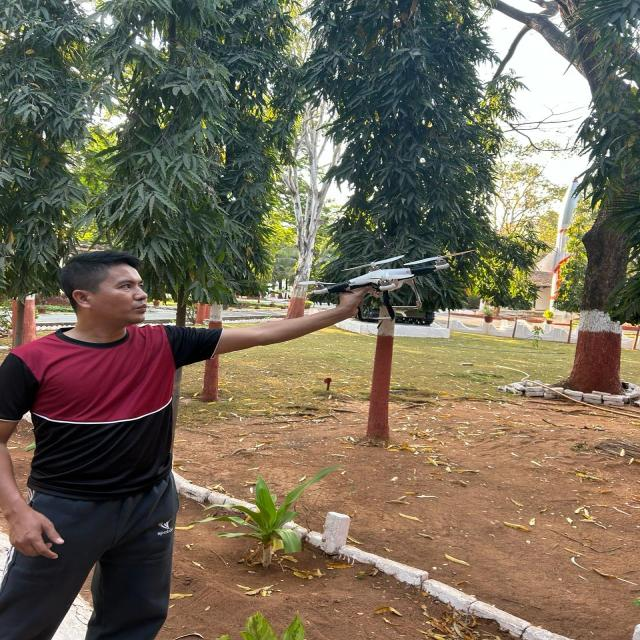drone: (283, 244, 490, 329)
